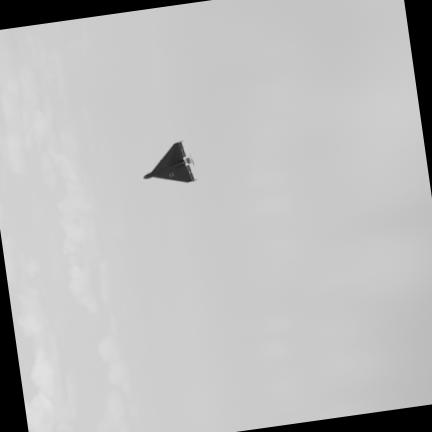Shahed: (145, 141, 193, 181)
